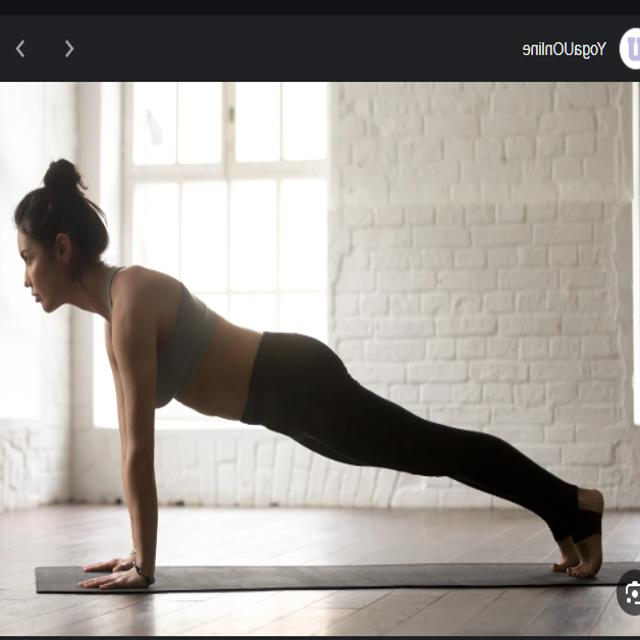Plank_Pose: (10, 152, 616, 596)
